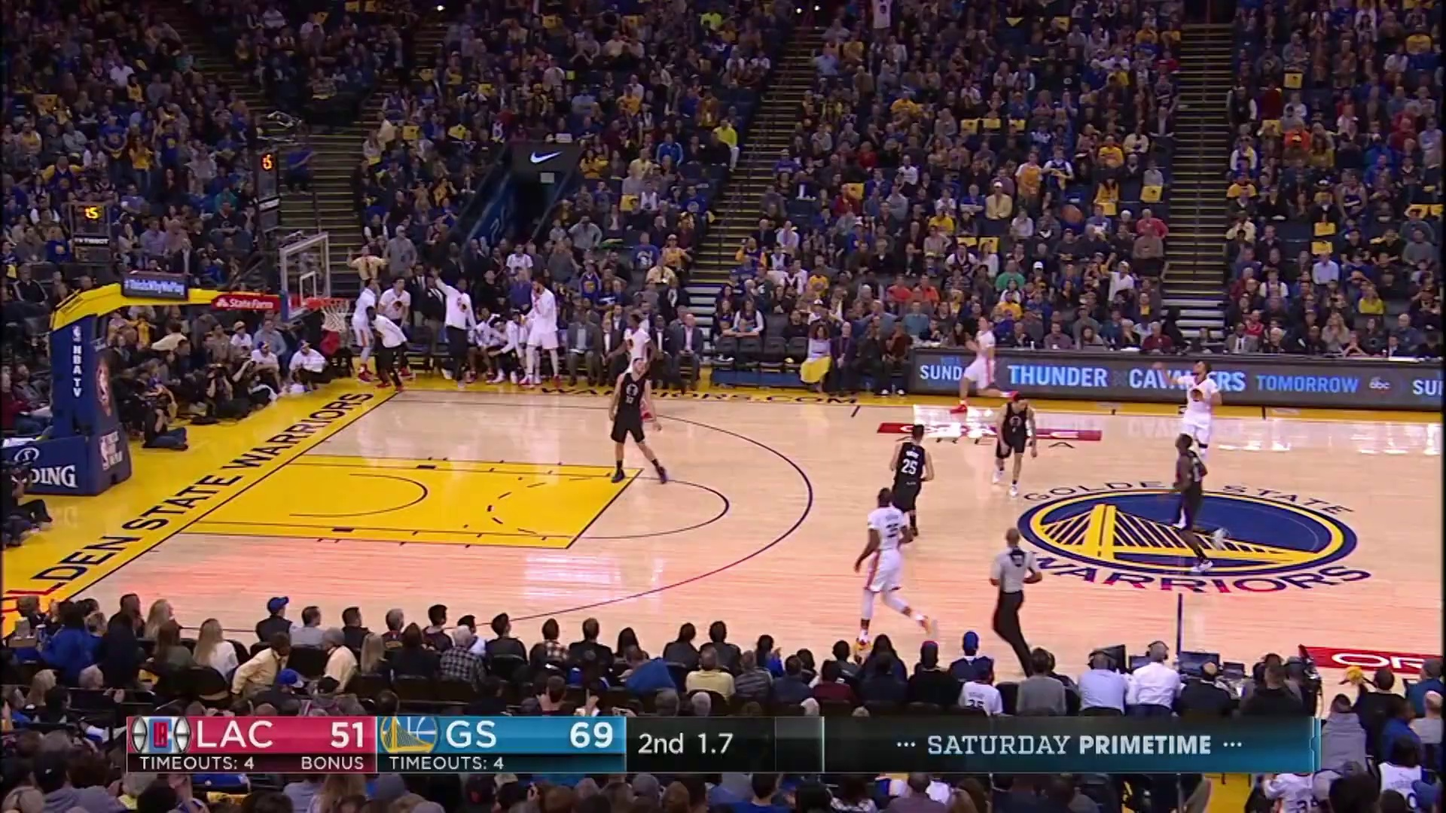basket_hoop: (263, 213, 386, 343)
